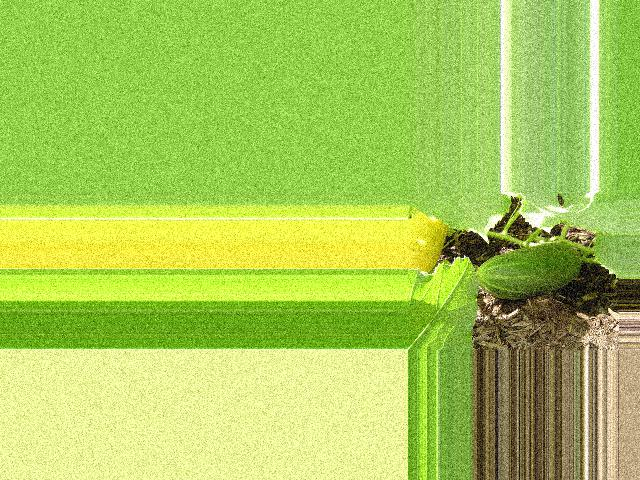cucumber: (476, 242, 582, 300)
